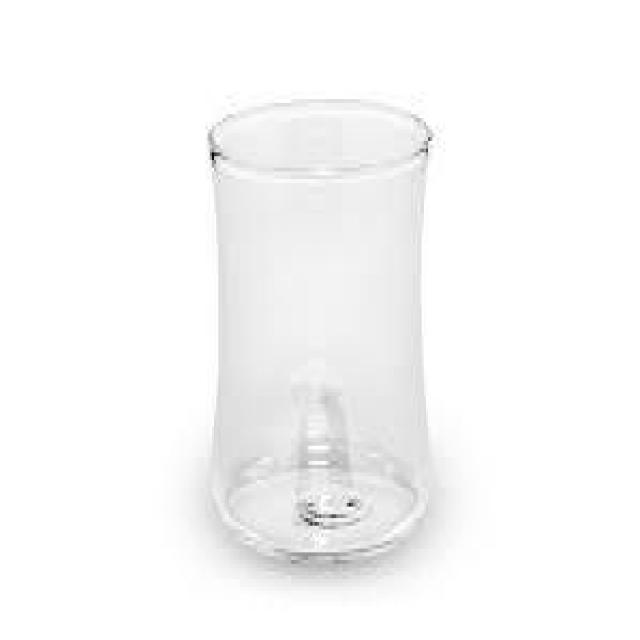non-organic waste: (197, 95, 439, 568)
